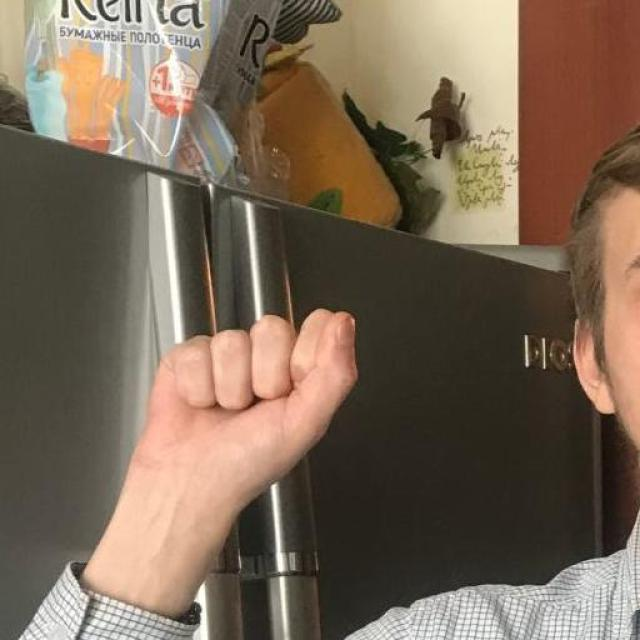hand: (131, 305, 359, 497)
